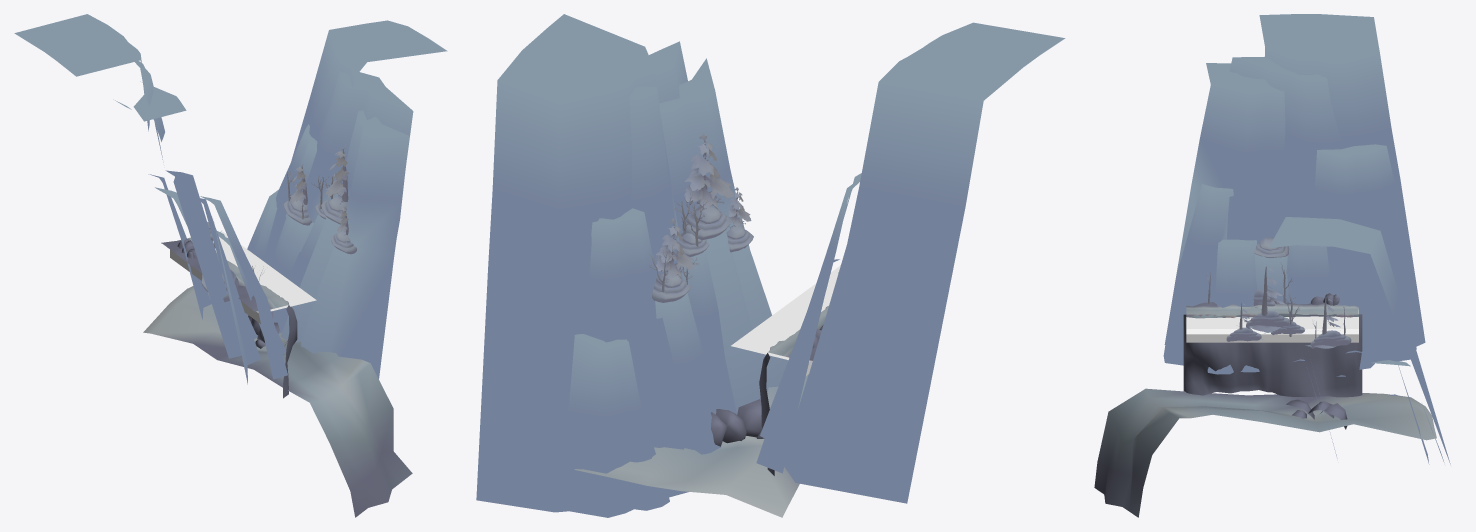
The model's file is Arctic_Narrows_Right_Straight_A.glb.
The picture shows the model from 3 angles, left to right: view 1: azimuth 30°, elevation 25°; view 2: azimuth 150°, elevation 25°; view 3: azimuth 270°, elevation 25°; orthographic projection. The views are drawn at different scales.
Visible parts, largest first — view 1: Arctic_Narrows_Right_Straight_A, inv_fill; view 2: Arctic_Narrows_Right_Straight_A, inv_fill; view 3: Arctic_Narrows_Right_Straight_A, inv_fill.
Part boxes in pixels (<box>): Arctic_Narrows_Right_Straight_A: <box>14,14,447,517</box>; inv_fill: <box>170,231,316,323</box>; Arctic_Narrows_Right_Straight_A: <box>476,14,1065,517</box>; inv_fill: <box>731,265,840,375</box>; Arctic_Narrows_Right_Straight_A: <box>1094,14,1450,517</box>; inv_fill: <box>1186,309,1358,342</box>.
Size of what is drawn, in the model's own units: 24.7 by 26.53 by 22.7.
